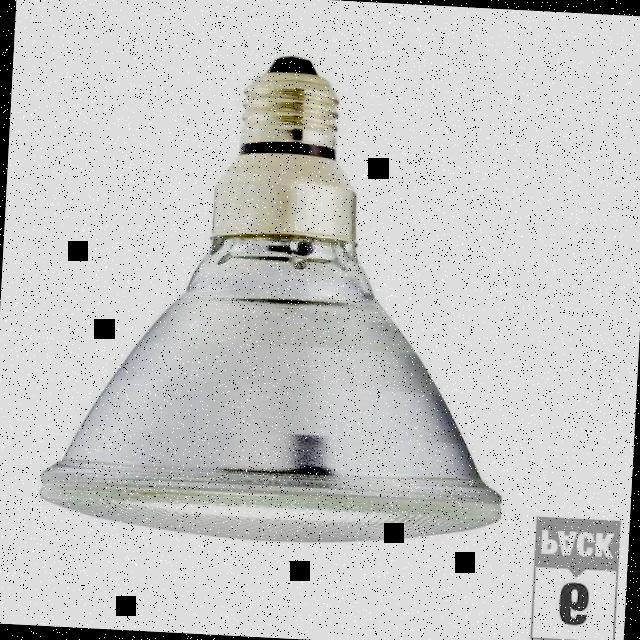light_bulb: (32, 42, 532, 556)
